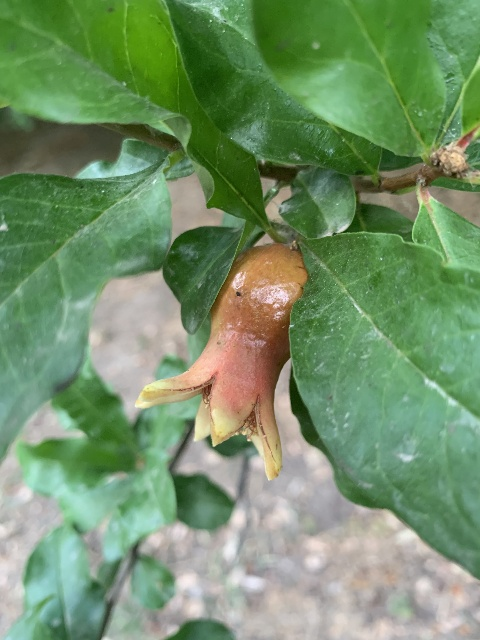early-fruit: (133, 241, 307, 482)
